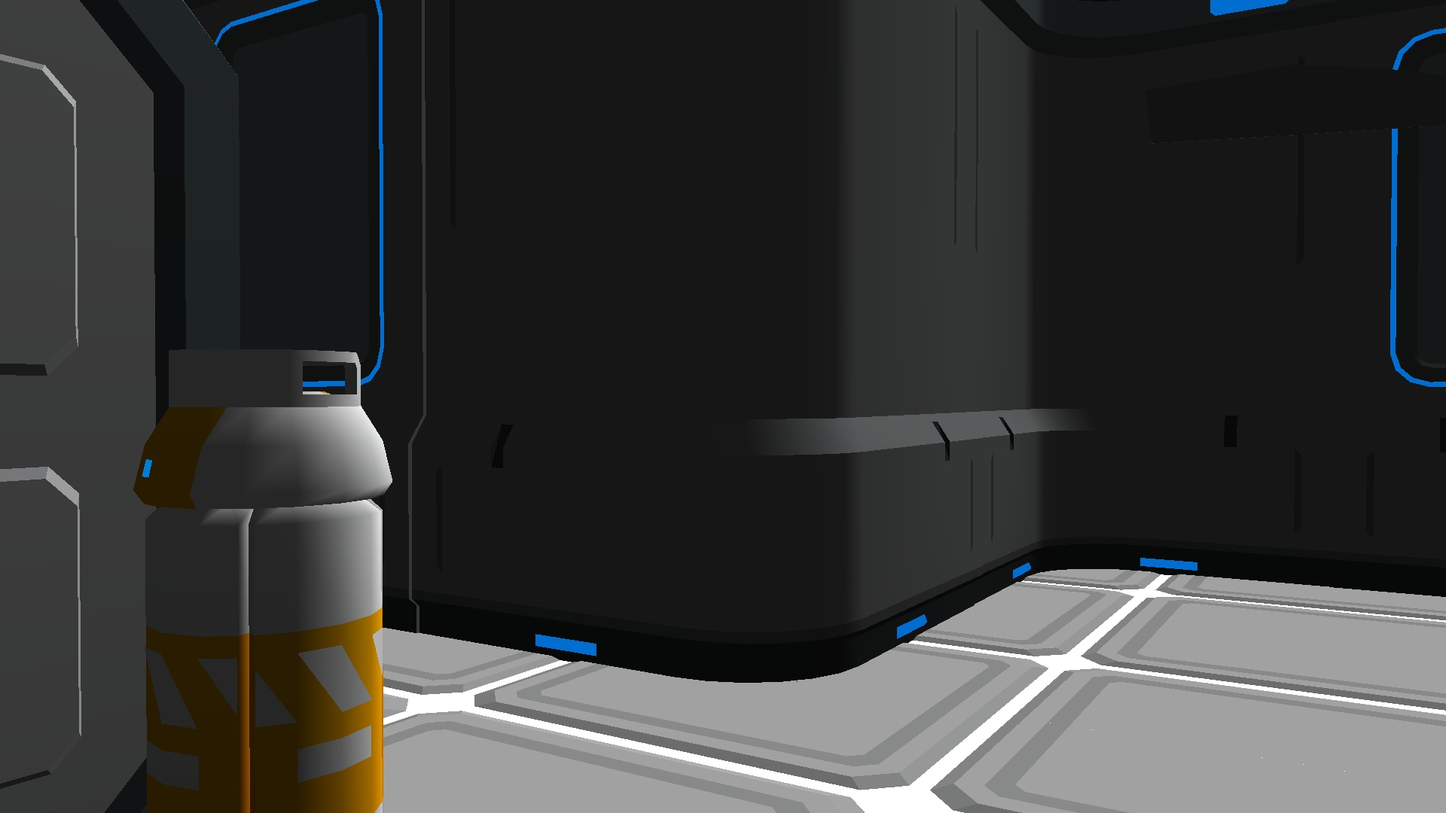yellow barrel: (133, 348, 393, 813)
